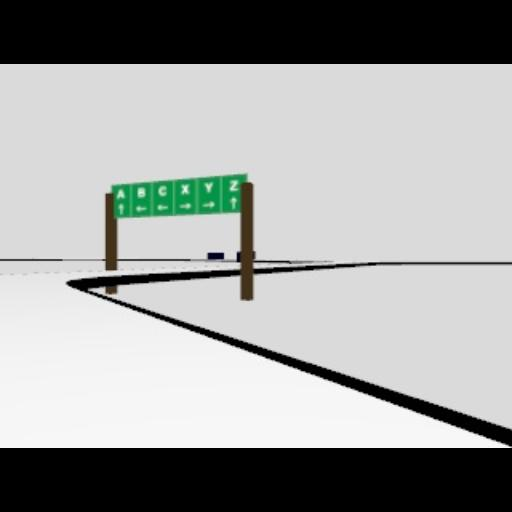A: (115, 188, 125, 198)
B: (136, 186, 146, 196)
C: (157, 184, 167, 196)
Left: (134, 205, 148, 211), (156, 203, 168, 209)
Right: (202, 200, 214, 208), (178, 202, 190, 208)
Straight: (229, 196, 237, 208), (117, 202, 123, 214)
X: (181, 182, 189, 194)
Y: (203, 180, 213, 192)
Z: (229, 180, 239, 190)
